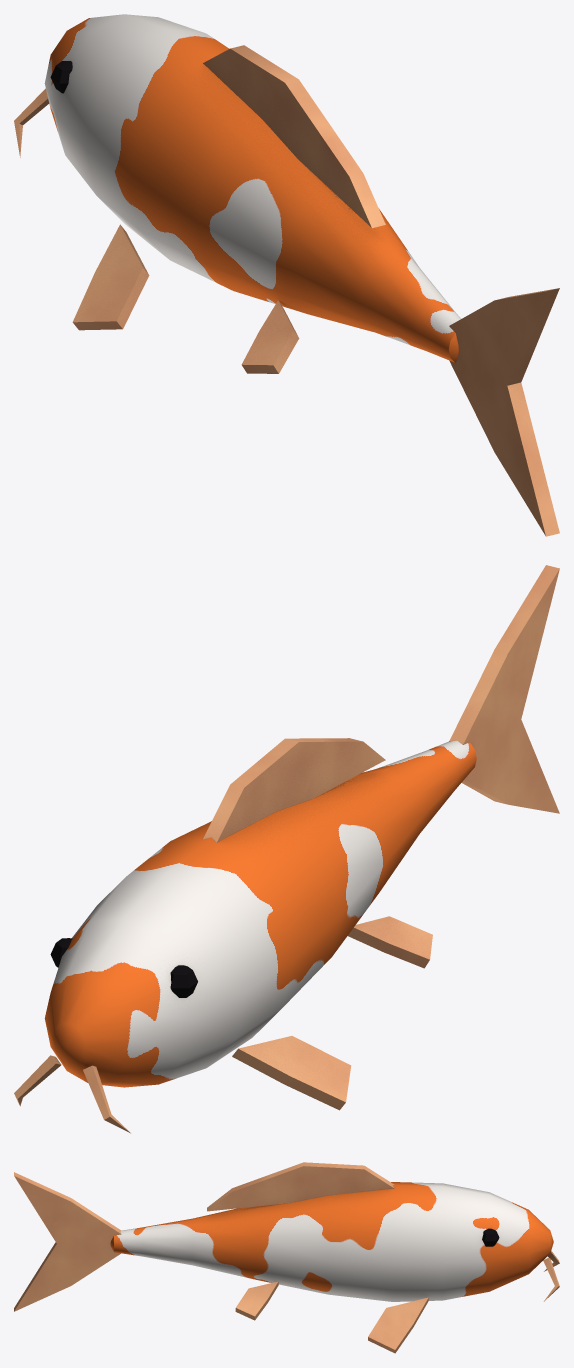
The model's file is koi.fbx.
3 renders of one model, top to bottom at view 1: azimuth 30°, elevation 25°; view 2: azimuth 150°, elevation 25°; view 3: azimuth 270°, elevation 25°, orthographic. The views are drawn at different scales.
Parts seen in each view (by area): view 1: koi; view 2: koi; view 3: koi.
Boxes of the visible parts, x1,y1,x2,y2 form: koi: [14, 14, 559, 536]; koi: [14, 565, 559, 1133]; koi: [14, 1162, 559, 1353].
Size of the model in its own units: 49 by 47.57 by 153.
1 material, 1 textured.
